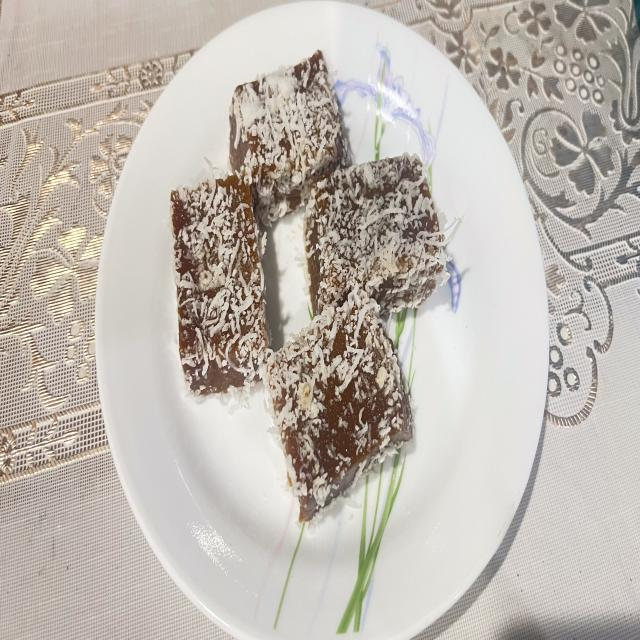kaswi: (265, 289, 412, 522), (304, 153, 446, 318), (171, 173, 269, 396), (230, 51, 346, 227)
